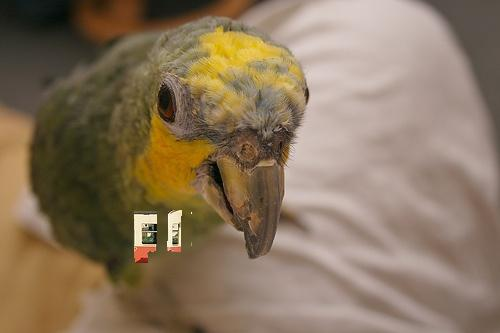tampered: (135, 211, 192, 263)
